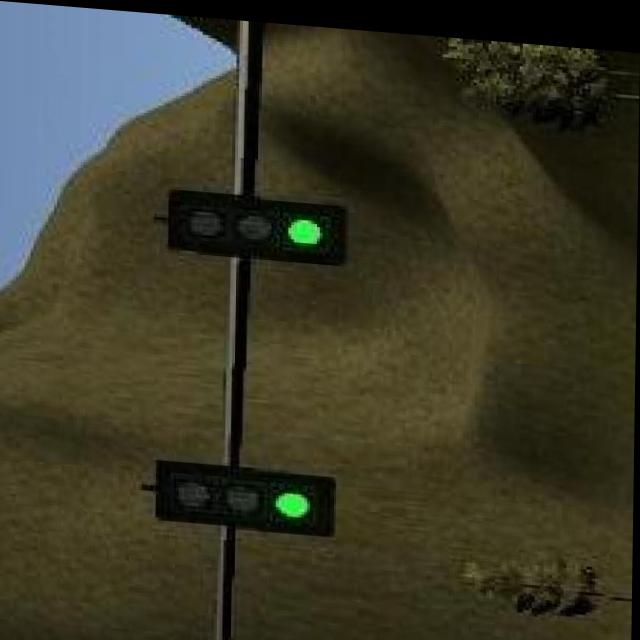green light: (157, 452, 335, 530), (169, 185, 347, 262)
